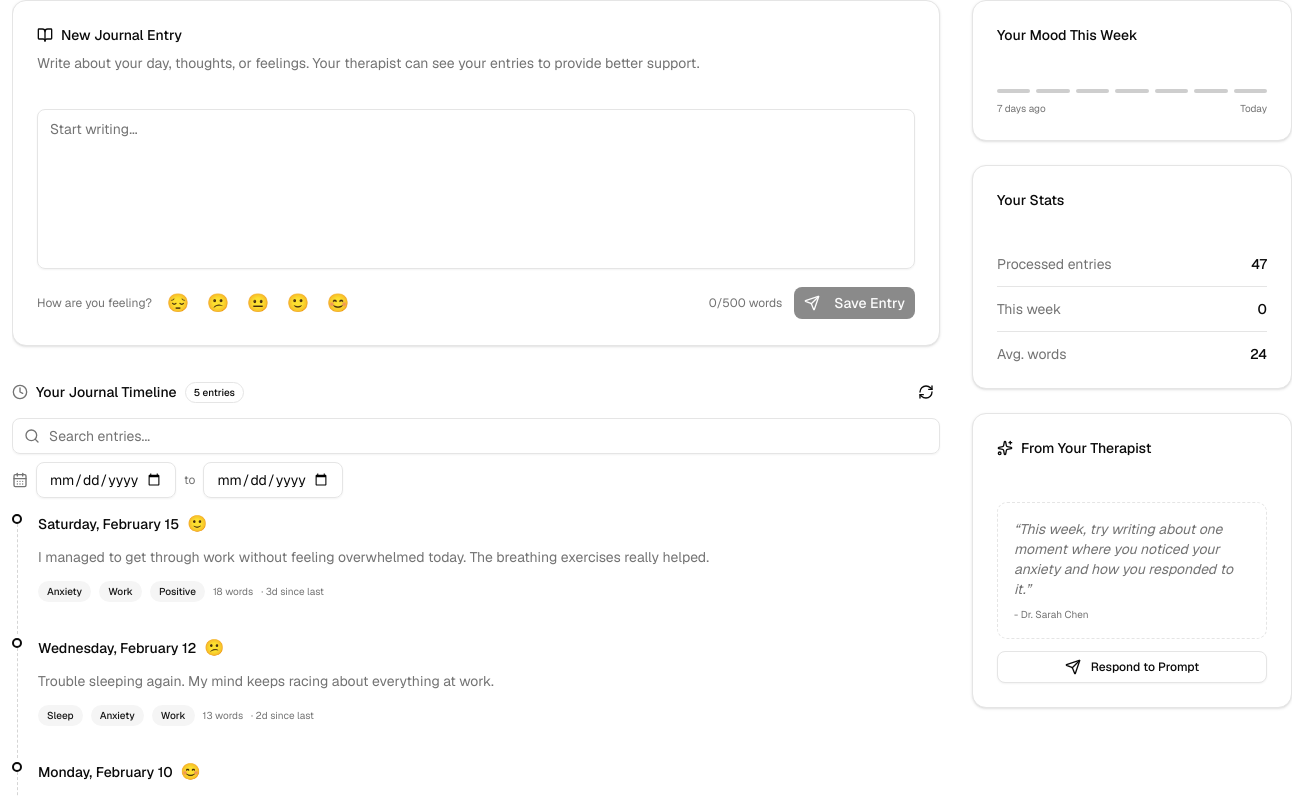
Scenario: Journal page › enables Save Entry button when content is typed
In the text box with placeholder "Start writing...": (476, 189) [37, 109, 915, 269], type "Today was a great day"
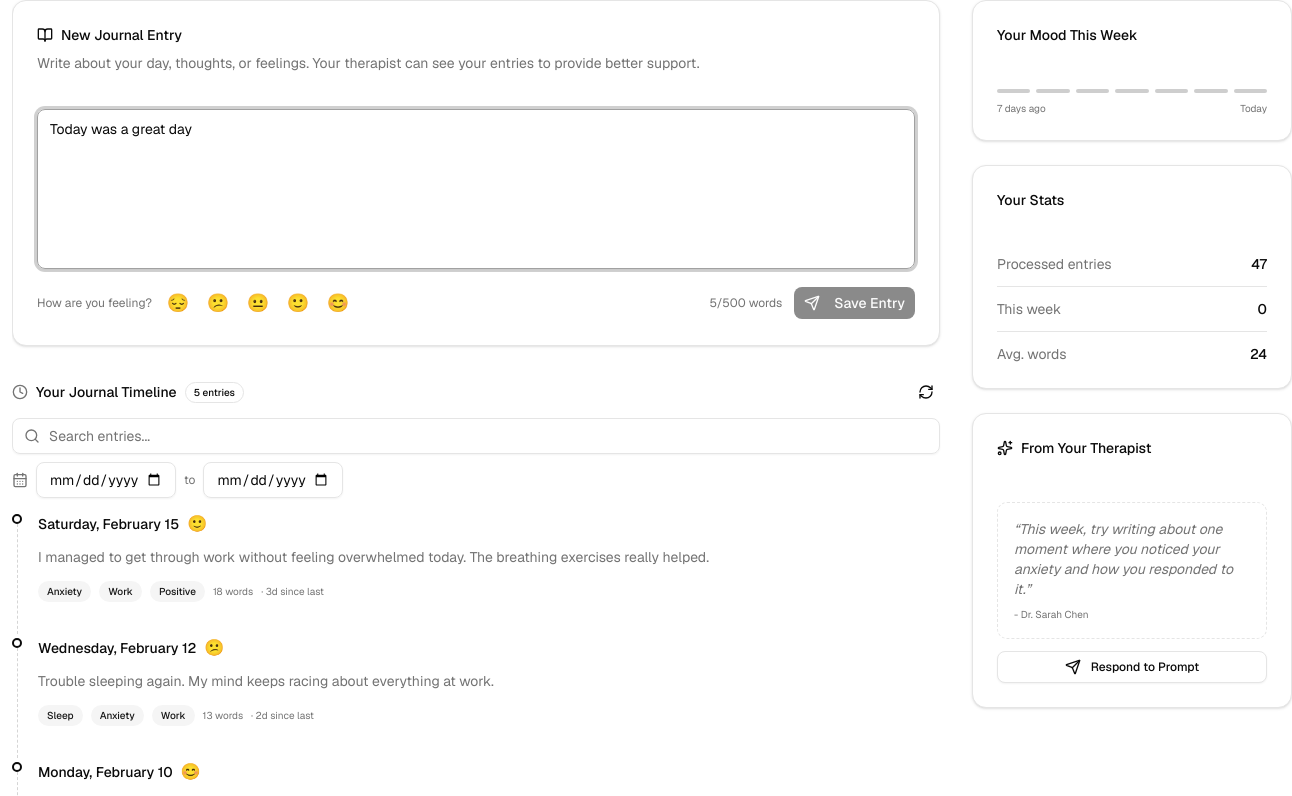
Click the button titled "Good": click(298, 303) [280, 285, 316, 321]
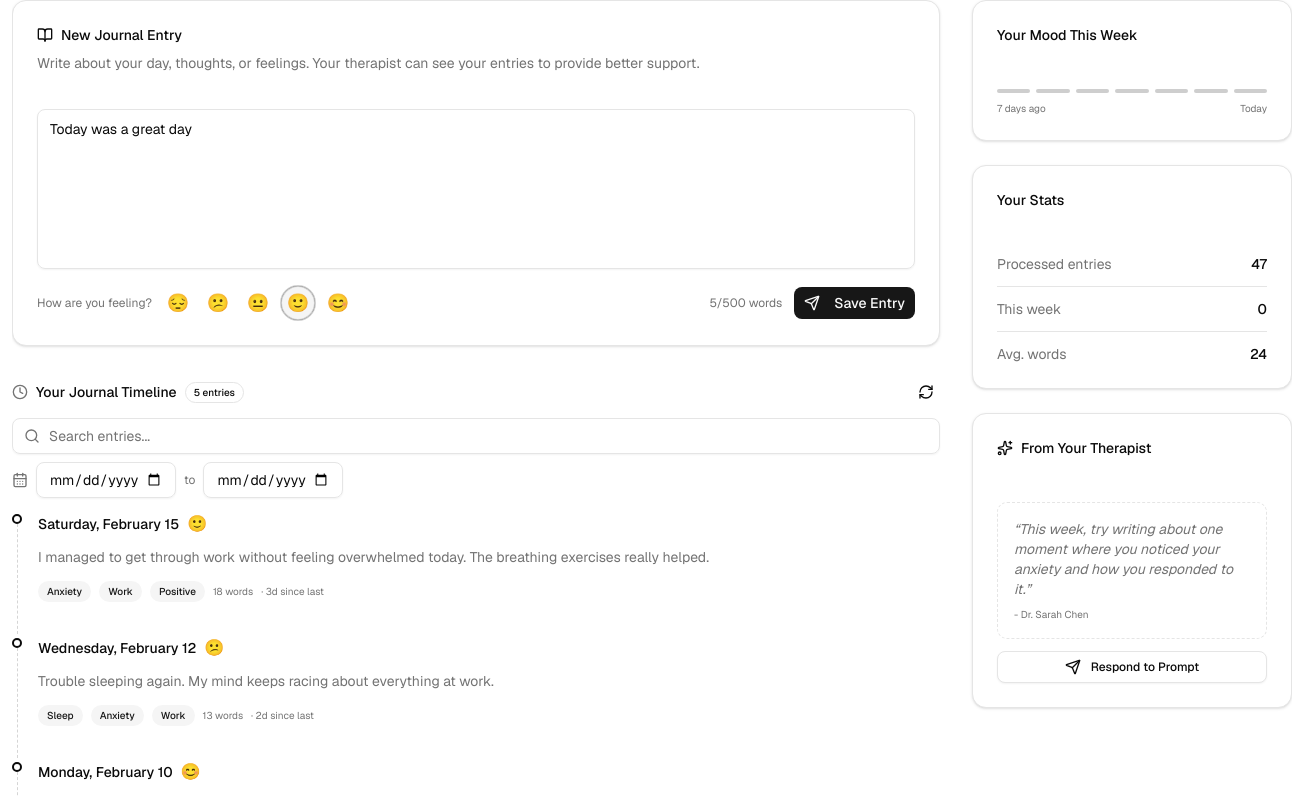
Now the button "Save Entry" is enabled, box [794, 287, 915, 319]
